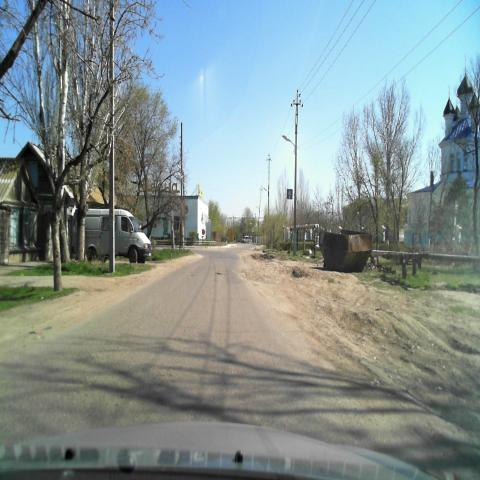5_6: (286, 189, 293, 199)
